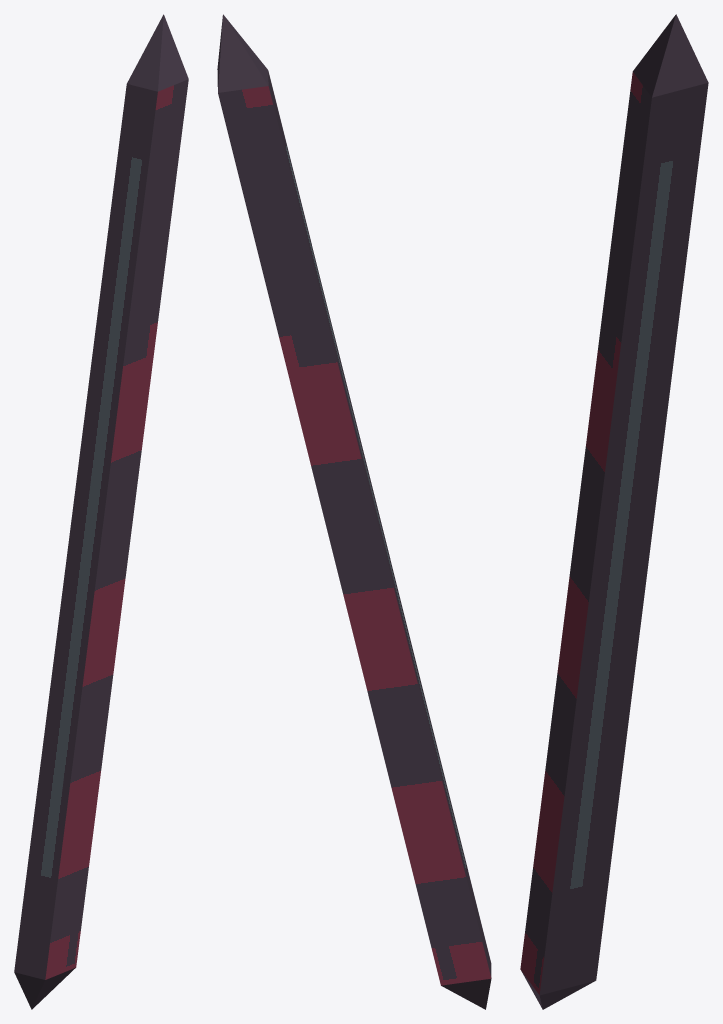
Rendered from mantis_thigh.glb.
The picture shows the model from 3 angles, left to right: view 1: azimuth 30°, elevation 25°; view 2: azimuth 150°, elevation 25°; view 3: azimuth 270°, elevation 25°; orthographic projection. The views are drawn at different scales.
Visible parts, largest first — view 1: Cube.140; view 2: Cube.140; view 3: Cube.140.
Part boxes in pixels (left/top/right/bottom): Cube.140: left=14, top=14, right=188, bottom=1009; Cube.140: left=217, top=14, right=491, bottom=1009; Cube.140: left=520, top=14, right=708, bottom=1009.
Bounding box in the file's own units: 1.13 × 4.61 × 0.7108.
1 material, 1 textured.
